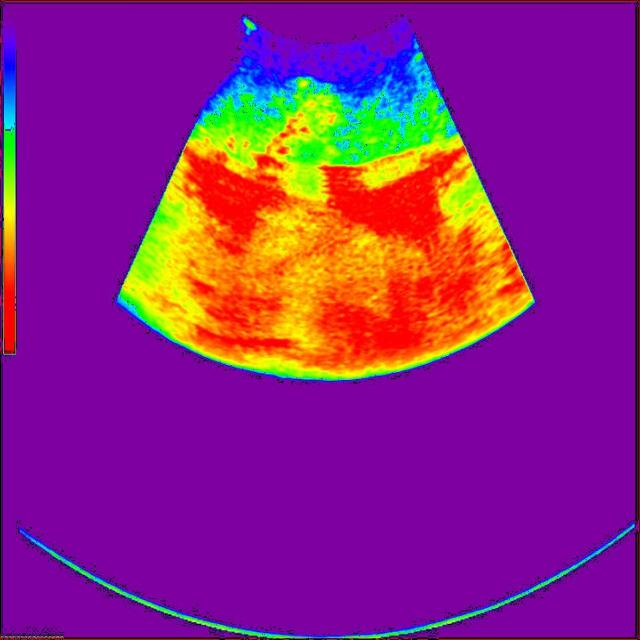lamb muscle post: (268, 100, 346, 166)
